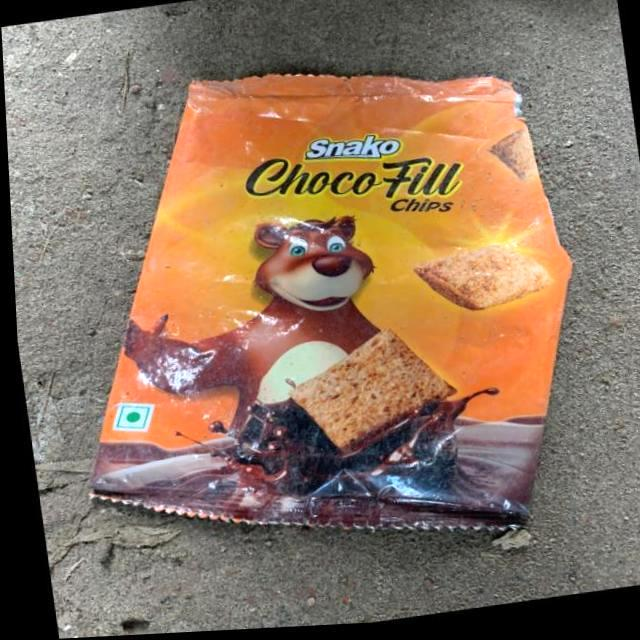packet: (175, 98, 538, 528)
